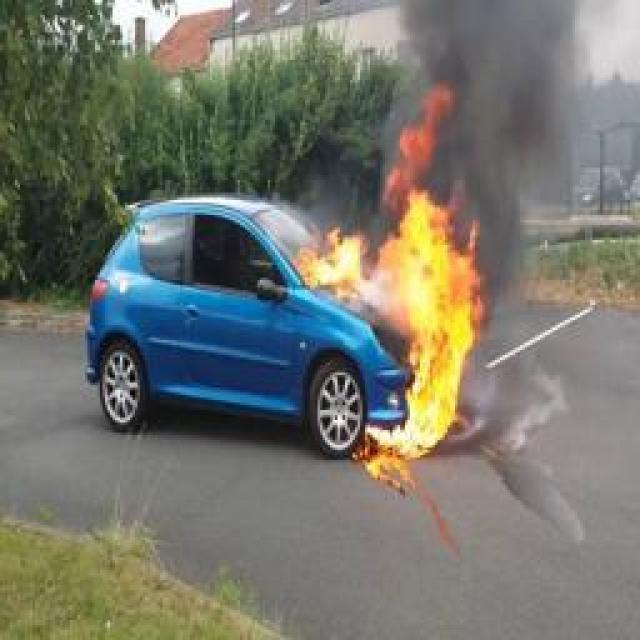Fire: (296, 82, 486, 460)
